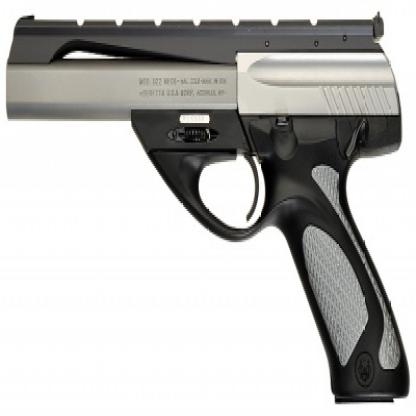Guns: (3, 10, 410, 406)
